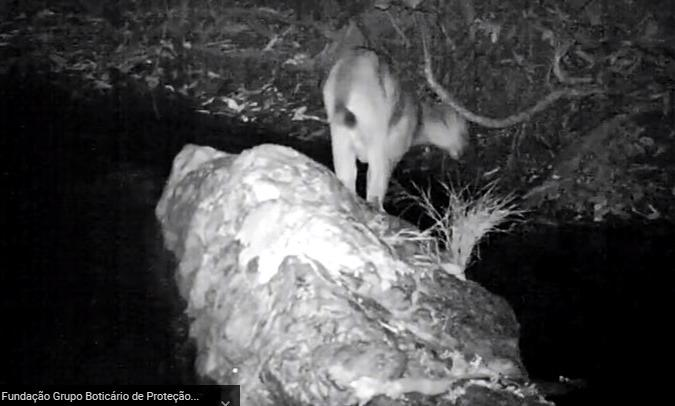OncaParda: (313, 42, 477, 223)
